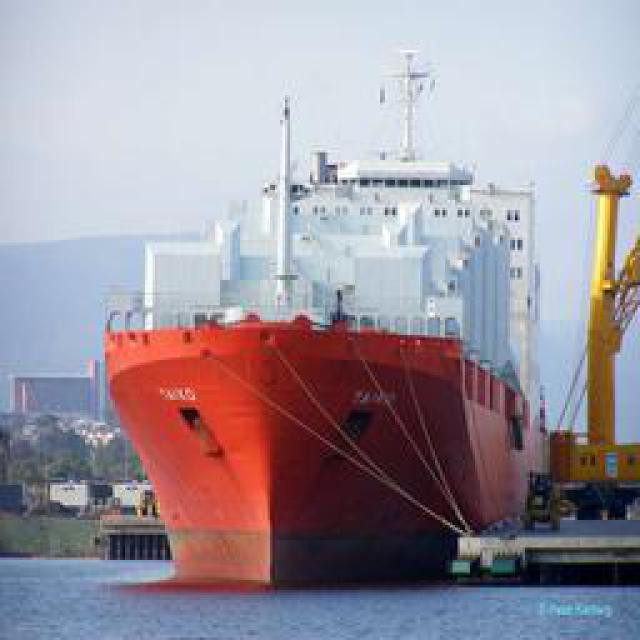Ship: (96, 47, 559, 585)
